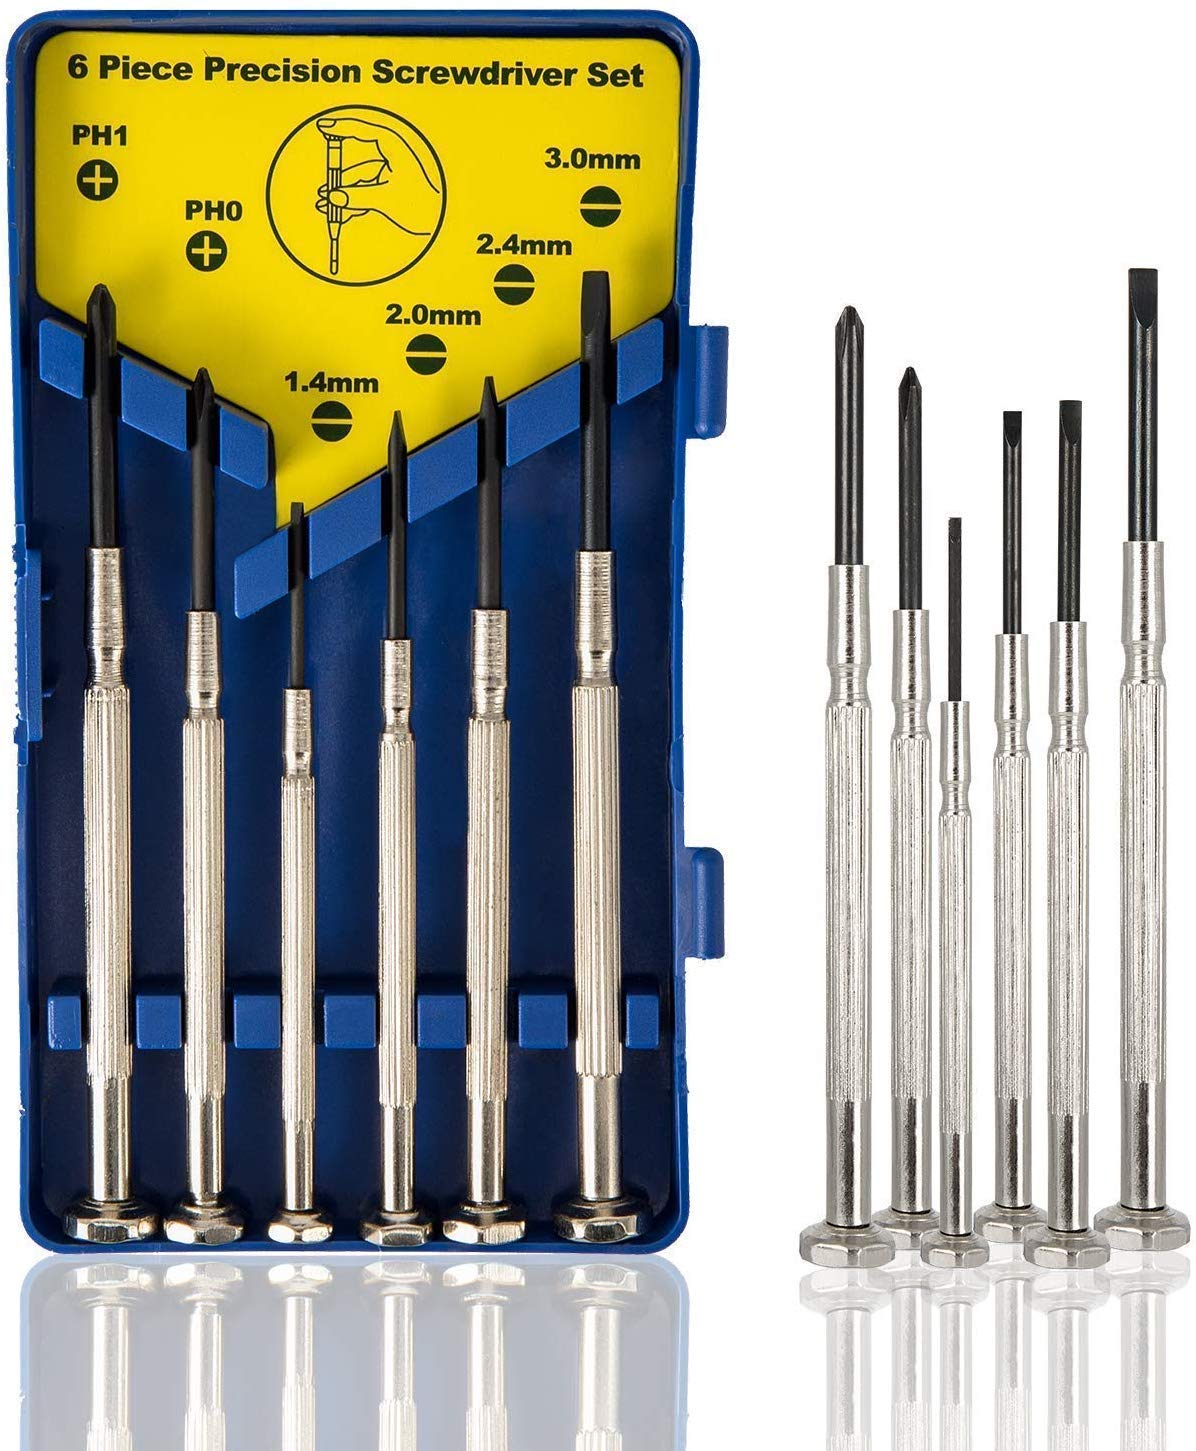screwdriver: (42, 284, 158, 1255), (549, 274, 650, 1250), (809, 296, 903, 1267), (153, 366, 250, 1250), (1103, 269, 1189, 1257), (445, 375, 530, 1249), (353, 411, 441, 1244), (905, 517, 997, 1269), (250, 503, 339, 1255), (880, 368, 952, 1249), (984, 410, 1056, 1236), (1034, 400, 1103, 1269)
